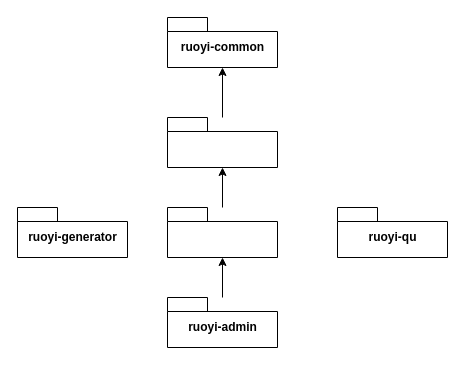
The diagram is 465 pixels wide and 365 high, and some of its shapes have lost their labels. The centre of each missing label's shape, as x and y in pixels:
"ruoyi-framework" belongs at (222,232).
"ruoyi-system" belongs at (222,142).
